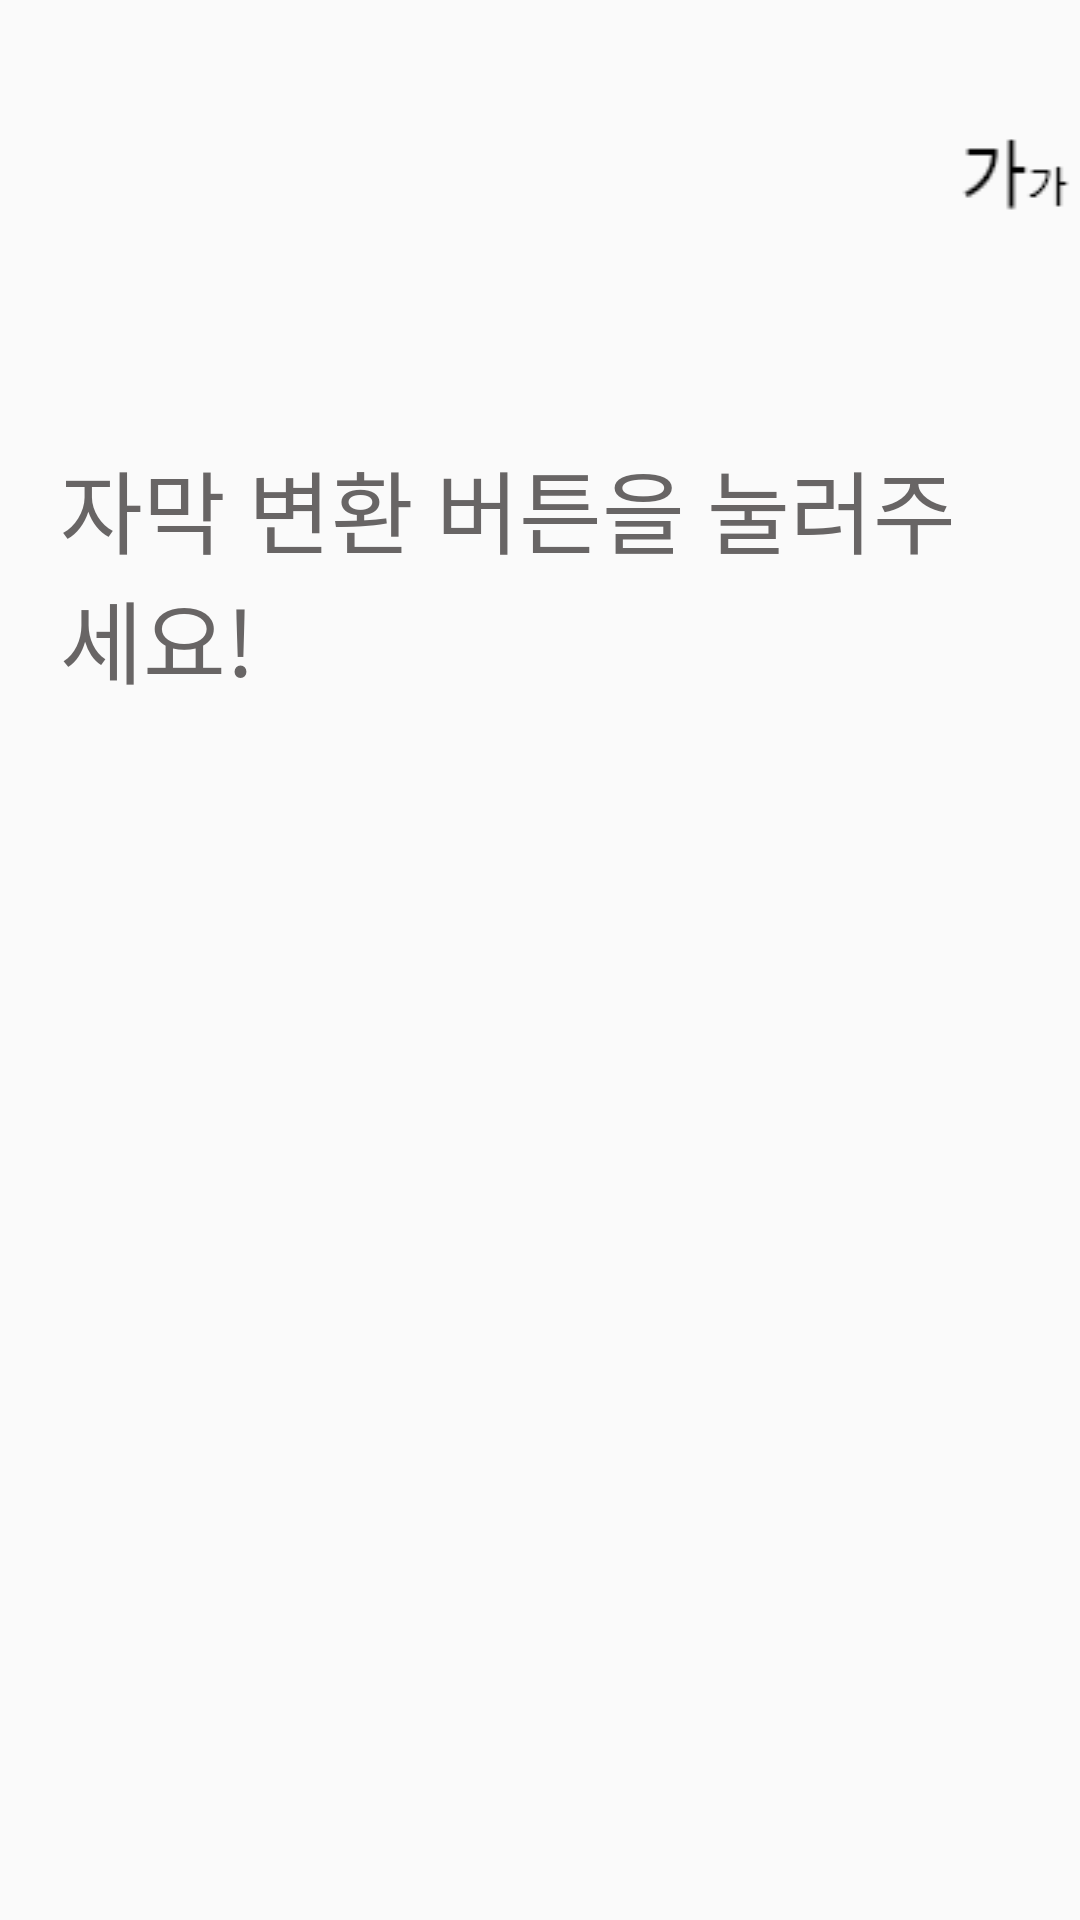

Icon bounding boxes for this 1080*1920 phone screenshot, format [x1=x1, y1=y1, x2=x2, y2=y2]:
text size: [x1=963, y1=139, x2=1069, y2=210]
